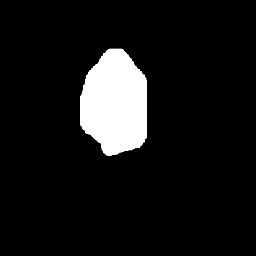mass: (85, 58, 145, 154)
